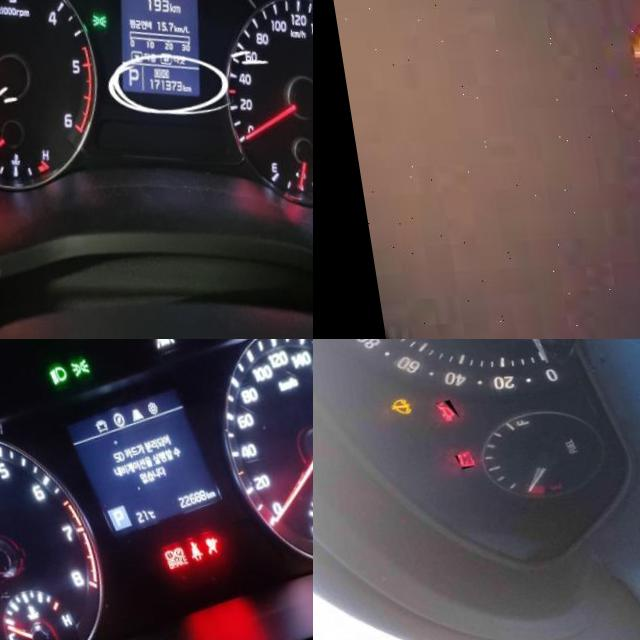LaneCenteringOff: (144, 339, 170, 353)
Low beam: (41, 366, 63, 388)
SideLamp: (63, 359, 86, 380), (80, 15, 98, 31)
